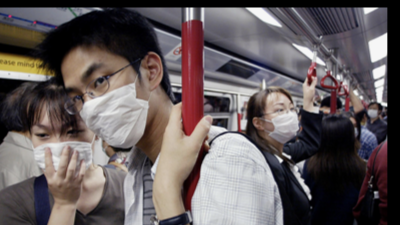with_mask: (64, 60, 150, 147), (30, 115, 94, 181), (265, 99, 301, 144), (368, 104, 379, 118)
